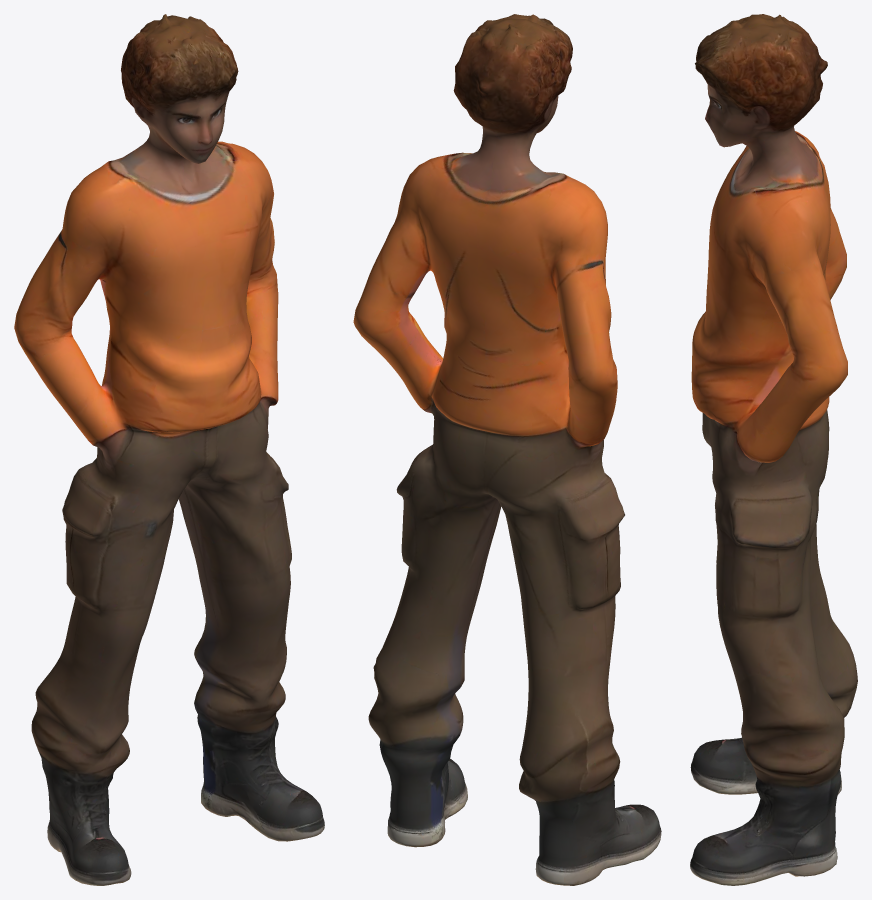
Rendered from kaua.glb.
3 renders of one model, left to right at view 1: azimuth 30°, elevation 25°; view 2: azimuth 150°, elevation 25°; view 3: azimuth 270°, elevation 25°, orthographic.
Size of the model in its own units: 0.5494 by 1.7 by 0.3186.
1 material, 1 textured.
